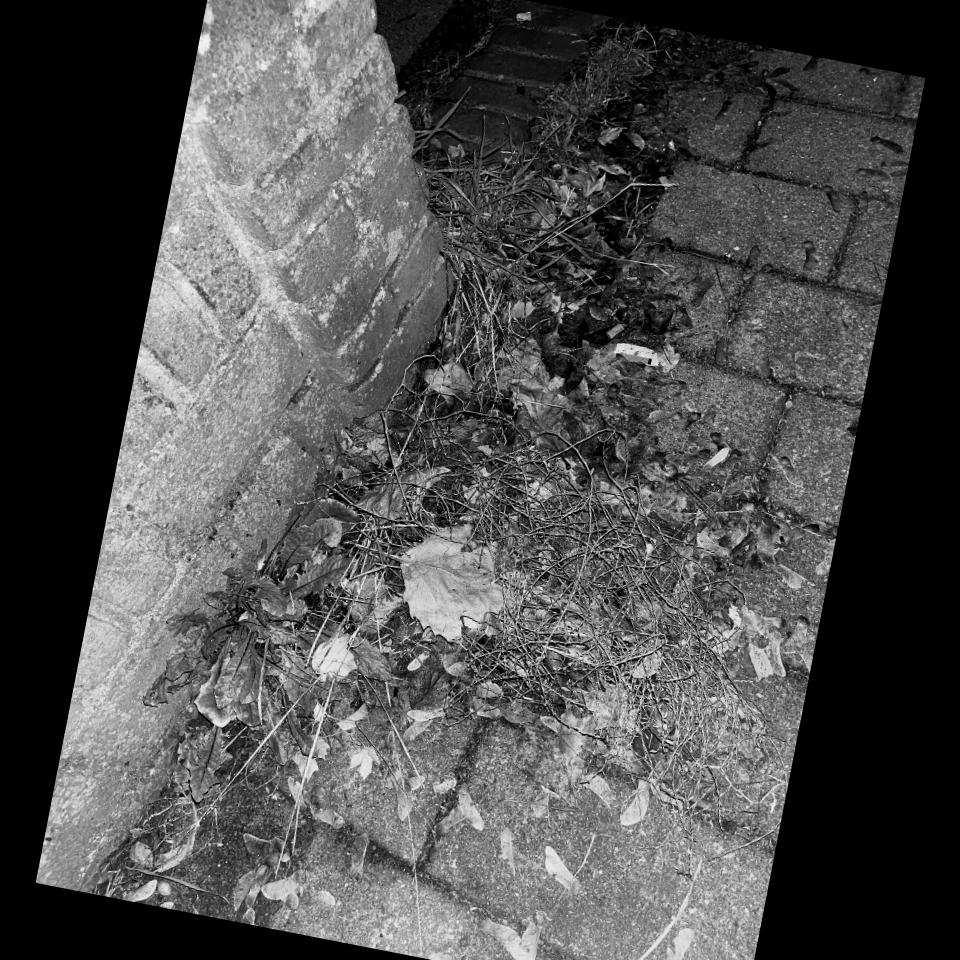weed: (137, 480, 385, 760), (404, 140, 562, 305), (533, 17, 656, 162)
